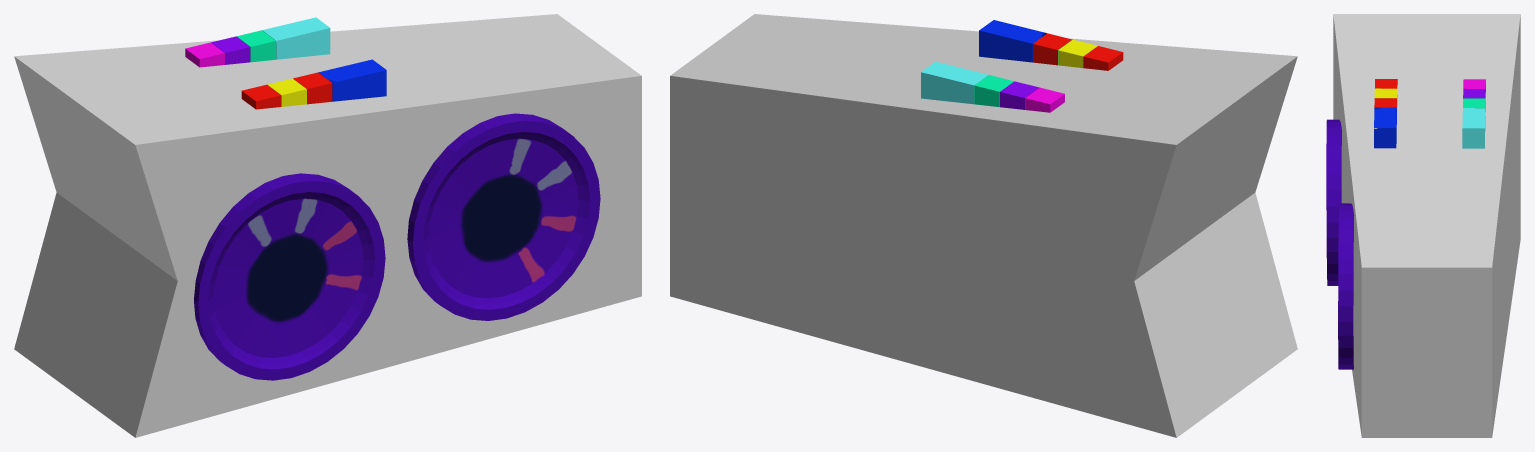
File: boomBot.fbx
3 renders of one model, left to right at view 1: azimuth 30°, elevation 25°; view 2: azimuth 150°, elevation 25°; view 3: azimuth 270°, elevation 25°, orthographic. The views are drawn at different scales.
Visible parts, largest first — view 1: Base, Bass.001, Bass.002, Buttons; view 2: Base, Buttons; view 3: Base, Buttons, Bass.001, Bass.002.
Boxes of the visible parts, x1,y1,x2,y2 form: Base: (14, 14, 641, 437); Bass.001: (407, 113, 600, 320); Bass.002: (194, 173, 385, 380); Buttons: (185, 17, 386, 109); Base: (670, 14, 1297, 437); Buttons: (921, 20, 1123, 112); Base: (1333, 14, 1520, 437); Buttons: (1374, 79, 1485, 148); Bass.001: (1338, 203, 1354, 369); Bass.002: (1326, 119, 1341, 285).
Bounding box in the file's own units: 300 × 160 × 124.
Materials: 3 (2 with a texture image).
